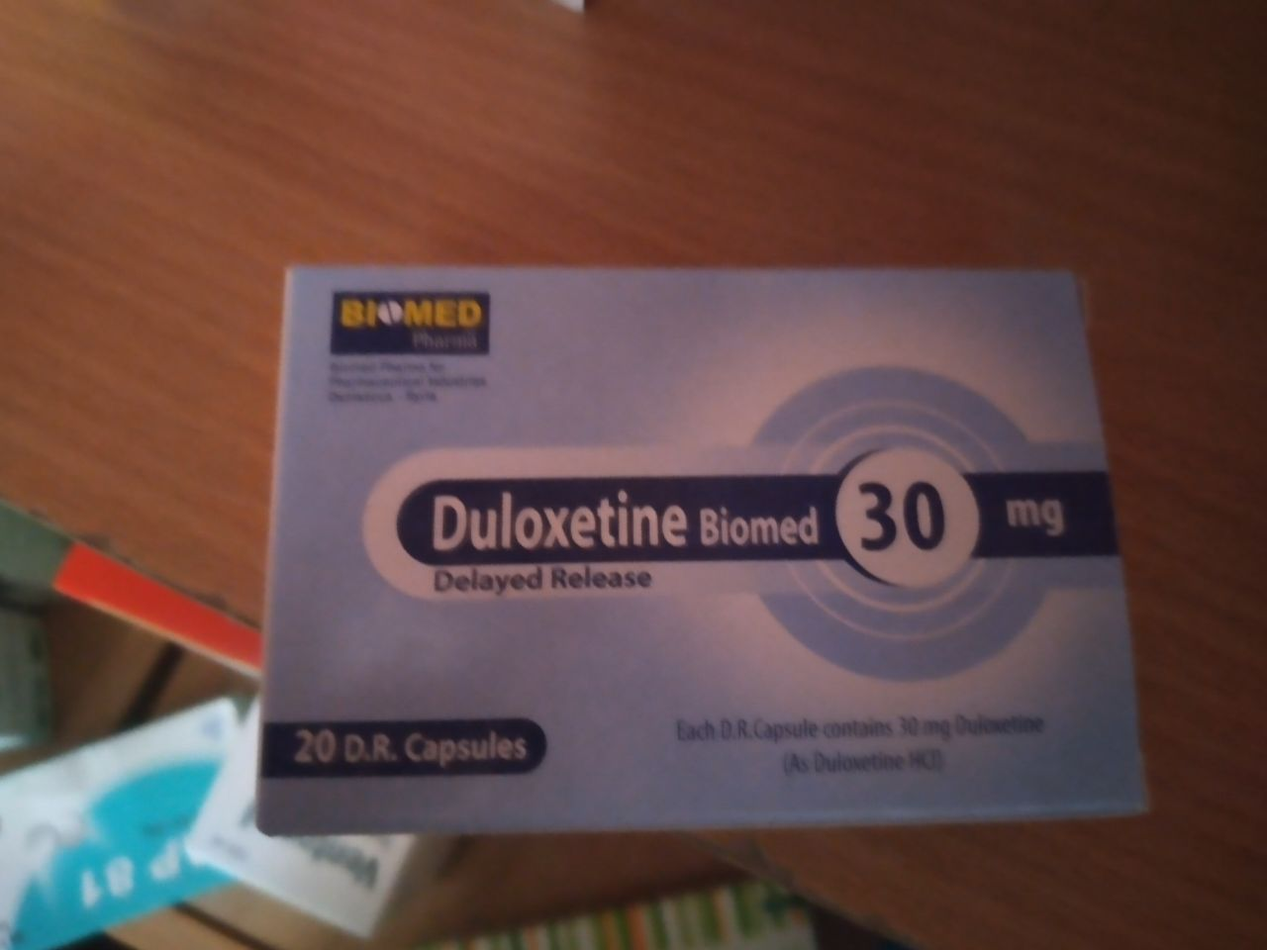Medicine: (255, 242, 1151, 866)
